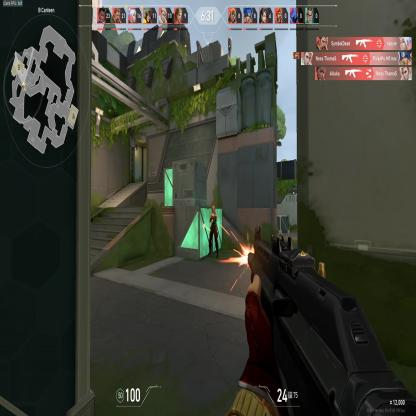enemy: (207, 204, 220, 259)
